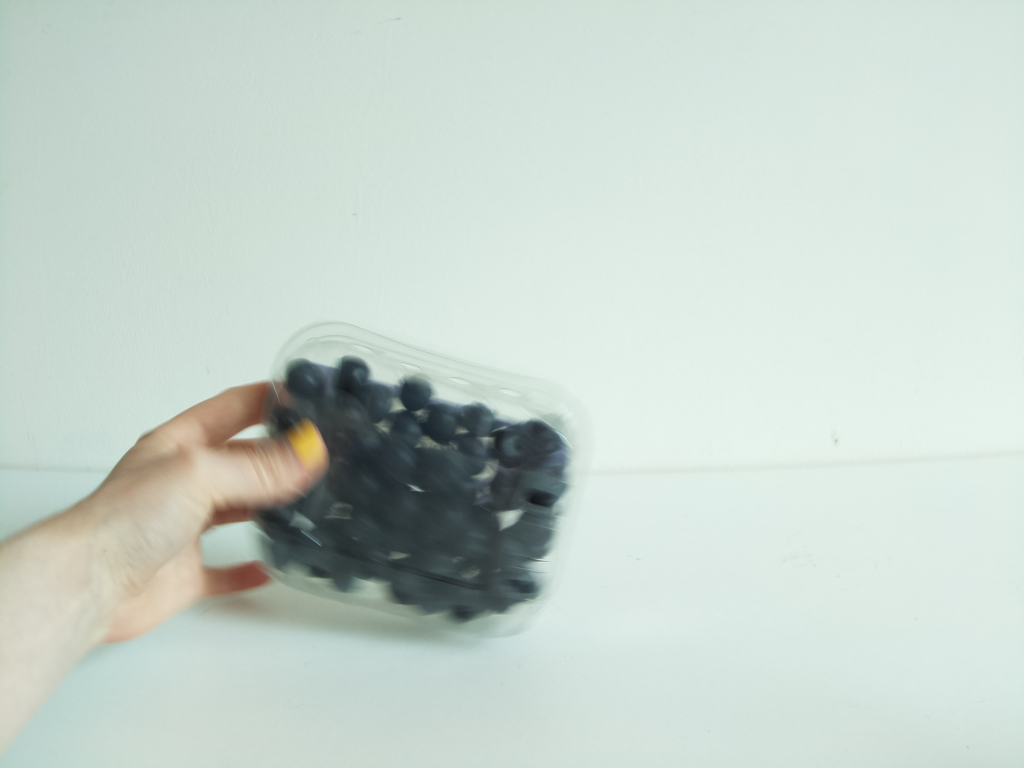soft-fruit: (256, 324, 589, 647)
